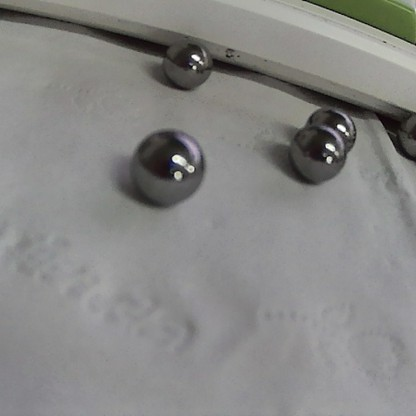ironball: (133, 121, 200, 200), (280, 123, 342, 172), (156, 34, 200, 96), (298, 91, 350, 136), (386, 104, 414, 163)
